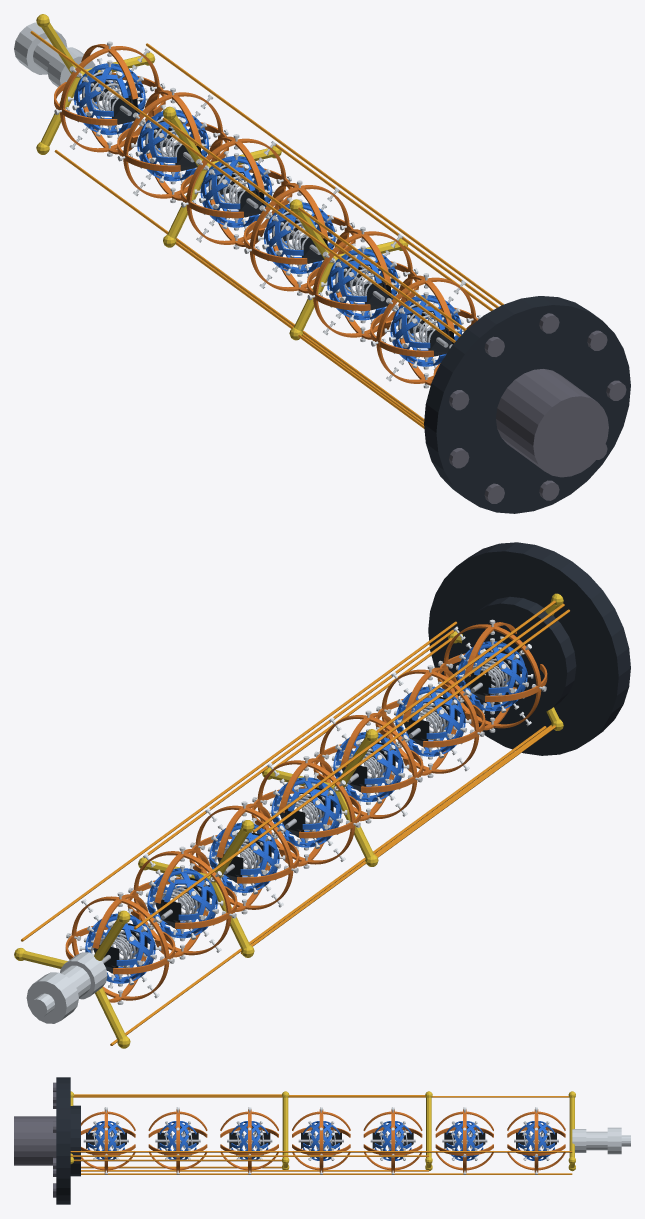
The model's file is trunc_arm_full_cad_model.obj.
3 views of the same model, one above another, from view 1: azimuth 30°, elevation 25°; view 2: azimuth 150°, elevation 25°; view 3: azimuth 270°, elevation 25° (orthographic). The views are drawn at different scales.
Visible parts, largest first — view 1: base_mount, links_equatorial, winches, links_truss, tendons, pins, triad, collars, spring, tool, shaft; view 2: base_mount, links_equatorial, links_truss, tendons, pins, triad, tool, collars, spring; view 3: links_equatorial, tendons, links_truss, base_mount, winches, triad, collars, tool, pins, spring, shaft.
Part boxes in pixels (left/top/right/bottom): base_mount: left=424, top=296, right=630, bottom=513; links_equatorial: left=54, top=44, right=478, bottom=385; winches: left=449, top=313, right=626, bottom=503; links_truss: left=74, top=63, right=461, bottom=366; tendons: left=30, top=31, right=503, bottom=428; pins: left=54, top=41, right=481, bottom=388; triad: left=36, top=14, right=408, bottom=340; collars: left=82, top=74, right=453, bottom=356; spring: left=82, top=71, right=438, bottom=348; tool: left=14, top=22, right=95, bottom=86; shaft: left=94, top=87, right=448, bottom=347; base_mount: left=428, top=542, right=630, bottom=755; links_equatorial: left=65, top=622, right=547, bottom=1002; links_truss: left=85, top=641, right=527, bottom=983; tendons: left=21, top=600, right=569, bottom=1045; pins: left=66, top=619, right=546, bottom=1004; triad: left=14, top=593, right=563, bottom=1048; tool: left=26, top=952, right=107, bottom=1023; collars: left=93, top=651, right=519, bottom=973; spring: left=90, top=658, right=510, bottom=967; links_equatorial: left=81, top=1109, right=565, bottom=1172; tendons: left=70, top=1094, right=572, bottom=1174; links_truss: left=87, top=1121, right=554, bottom=1160; base_mount: left=56, top=1077, right=80, bottom=1204; winches: left=14, top=1082, right=56, bottom=1197; triad: left=70, top=1091, right=575, bottom=1171; collars: left=86, top=1132, right=556, bottom=1149; tool: left=572, top=1127, right=630, bottom=1154; pins: left=93, top=1107, right=549, bottom=1174; spring: left=92, top=1129, right=550, bottom=1150; shaft: left=83, top=1139, right=558, bottom=1142.
Bounding box in the file's own units: 180 × 180 × 873.
